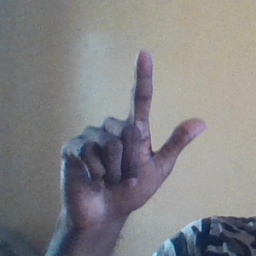L: (58, 48, 208, 220)
